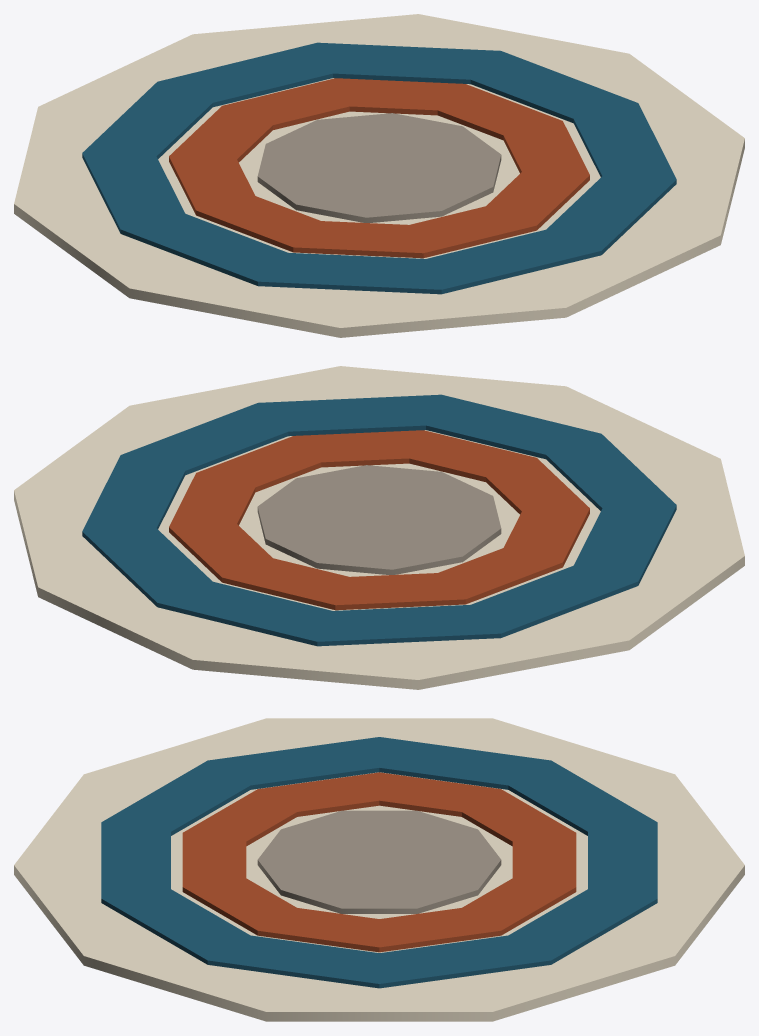
The model's file is decor_mosaic_roundel_LOD2.glb.
The picture shows the model from 3 angles, top to bottom: view 1: azimuth 30°, elevation 25°; view 2: azimuth 150°, elevation 25°; view 3: azimuth 270°, elevation 25°; orthographic projection. The views are drawn at different scales.
Visible parts, largest first — view 1: decor_mosaic_roundel_LOD2; view 2: decor_mosaic_roundel_LOD2; view 3: decor_mosaic_roundel_LOD2.
Part boxes in pixels (x1=…): decor_mosaic_roundel_LOD2: x1=14, y1=14, x2=744, y2=337; decor_mosaic_roundel_LOD2: x1=14, y1=366, x2=744, y2=689; decor_mosaic_roundel_LOD2: x1=14, y1=718, x2=744, y2=1021.
Size of the model in its own units: 2.28 by 0.055 by 2.4.
